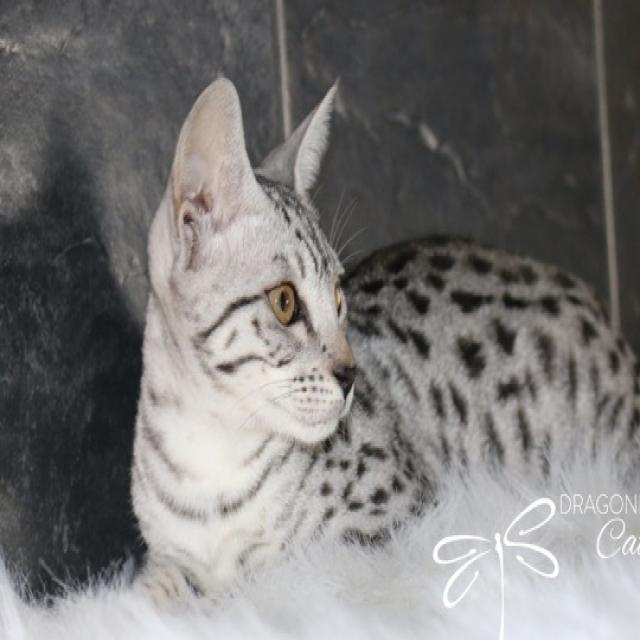Savannah: (123, 69, 640, 624)
